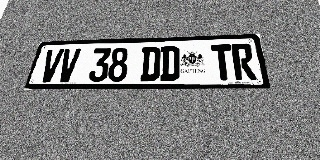3: (88, 48, 112, 82)
8: (107, 47, 130, 82)
D: (140, 46, 161, 81), (160, 46, 180, 81)
R: (231, 44, 257, 80)
T: (211, 44, 235, 81)
V: (38, 49, 64, 82), (56, 49, 81, 82)
